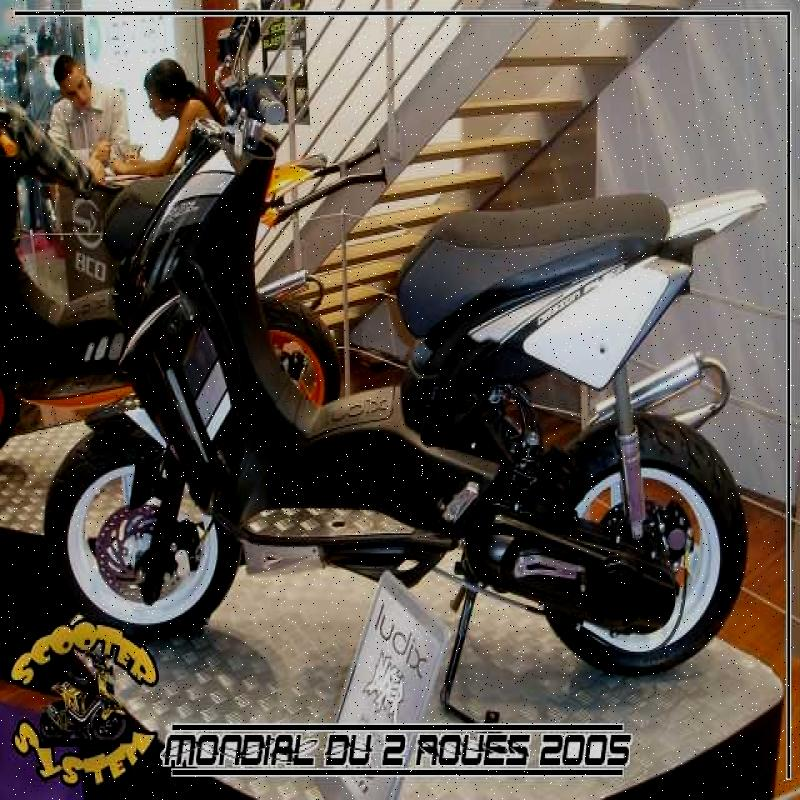bike: (101, 12, 726, 668)
